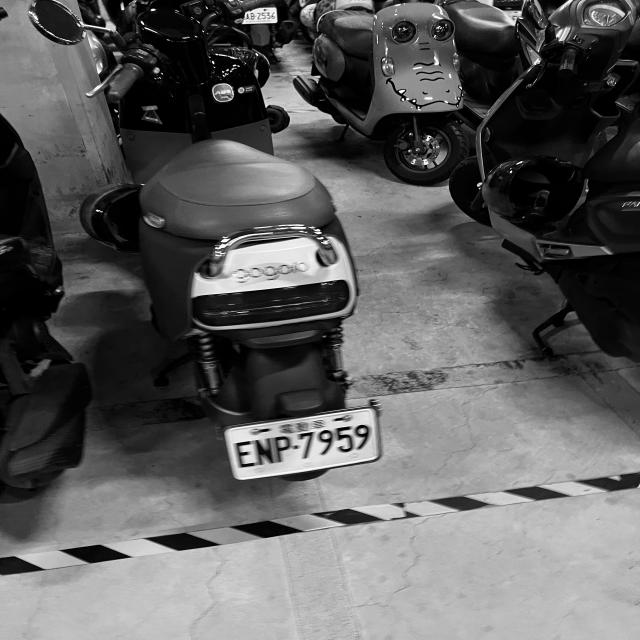-: (291, 444, 299, 450)
2: (257, 12, 261, 20)
3: (266, 12, 271, 20)
5: (335, 425, 354, 453), (262, 12, 266, 20)
6: (271, 12, 275, 19)
7: (298, 430, 315, 460)
9: (353, 423, 374, 451), (317, 428, 336, 456)
B: (250, 12, 255, 20)
E: (230, 440, 260, 470)
N: (253, 436, 276, 467)
plate: (227, 410, 380, 480), (271, 435, 294, 464)
